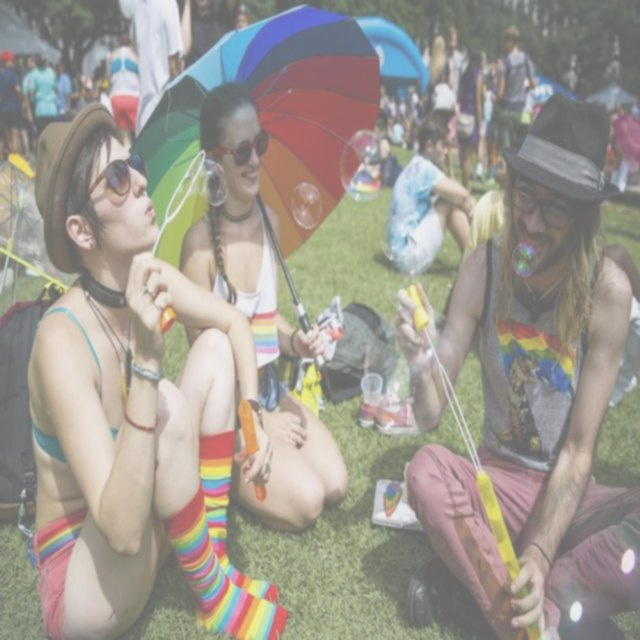pessoa: (9, 101, 304, 639), (393, 89, 639, 639), (172, 86, 353, 534), (387, 117, 478, 277), (456, 119, 534, 275), (128, 0, 183, 141), (490, 27, 538, 155), (177, 0, 232, 94), (352, 114, 405, 194), (106, 31, 142, 148), (456, 48, 484, 188), (478, 47, 506, 180), (608, 98, 640, 200), (27, 52, 59, 142), (69, 55, 108, 116), (427, 34, 454, 104), (23, 55, 39, 164), (444, 25, 466, 100), (401, 80, 424, 150), (0, 48, 19, 128), (53, 55, 74, 116), (604, 105, 620, 184), (98, 77, 115, 118), (383, 90, 398, 130), (394, 89, 407, 134), (402, 104, 414, 150), (388, 116, 406, 145), (234, 8, 252, 30), (379, 85, 389, 108)
